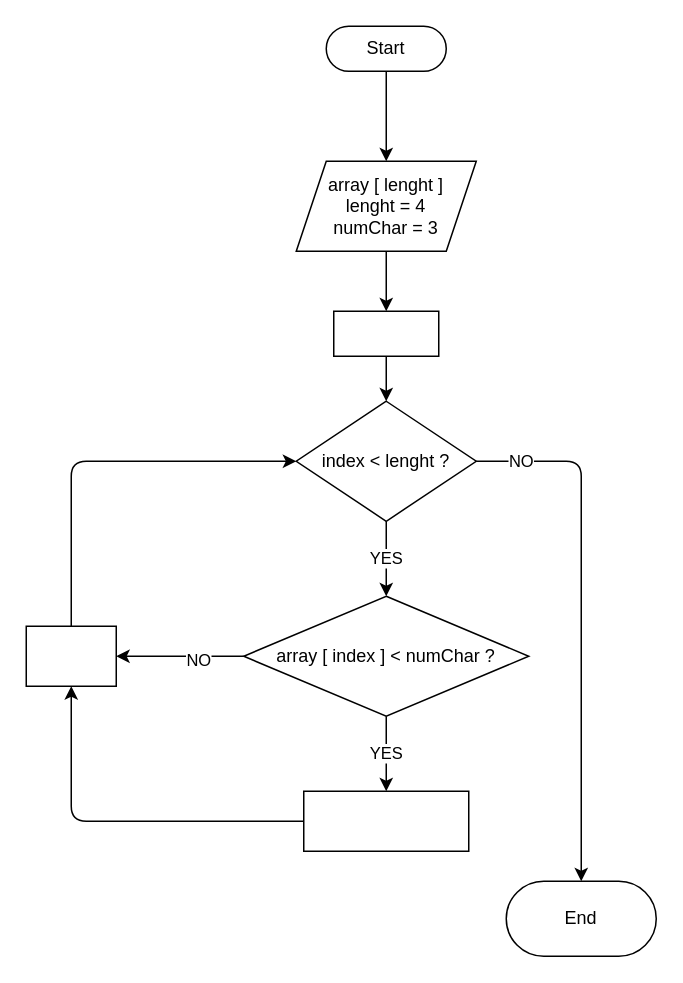
This 683x983 diagram has some shape labels left out. Here are the shapes that lost their labels. From the top down, the centre of each, then its label:
[385,333]: index = 0
[70,655]: index++
[385,820]: Print array [ index ]
